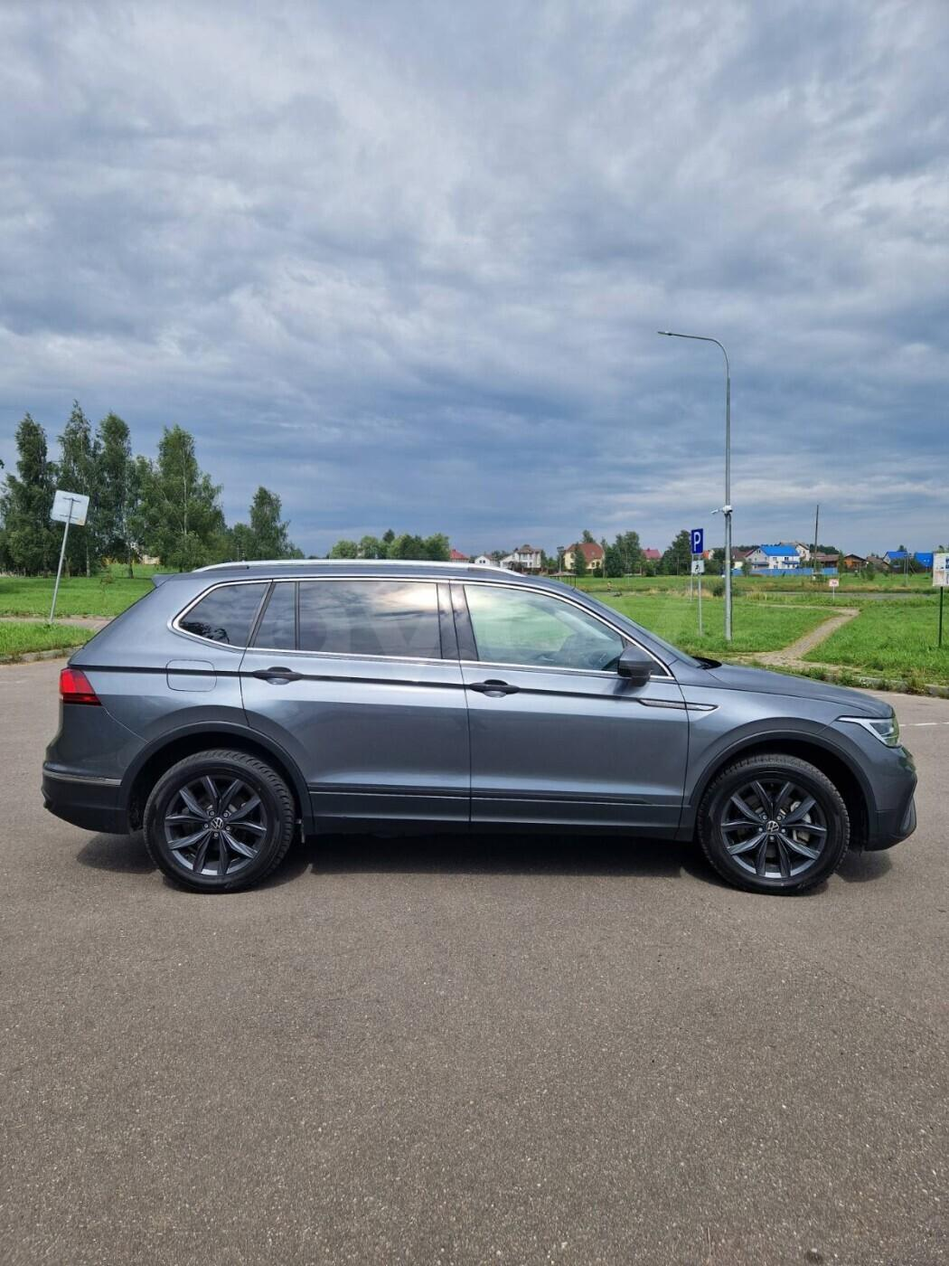Tiguan_2020-2024: (36, 552, 918, 908)
